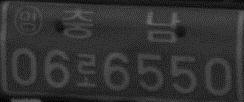0: (203, 55, 233, 97), (9, 46, 38, 89)
5: (135, 52, 165, 93), (169, 55, 197, 94)
6: (102, 51, 131, 93), (43, 48, 71, 89)
로: (74, 51, 98, 88)
영: (14, 4, 44, 37)
충남_D: (61, 7, 180, 43)
